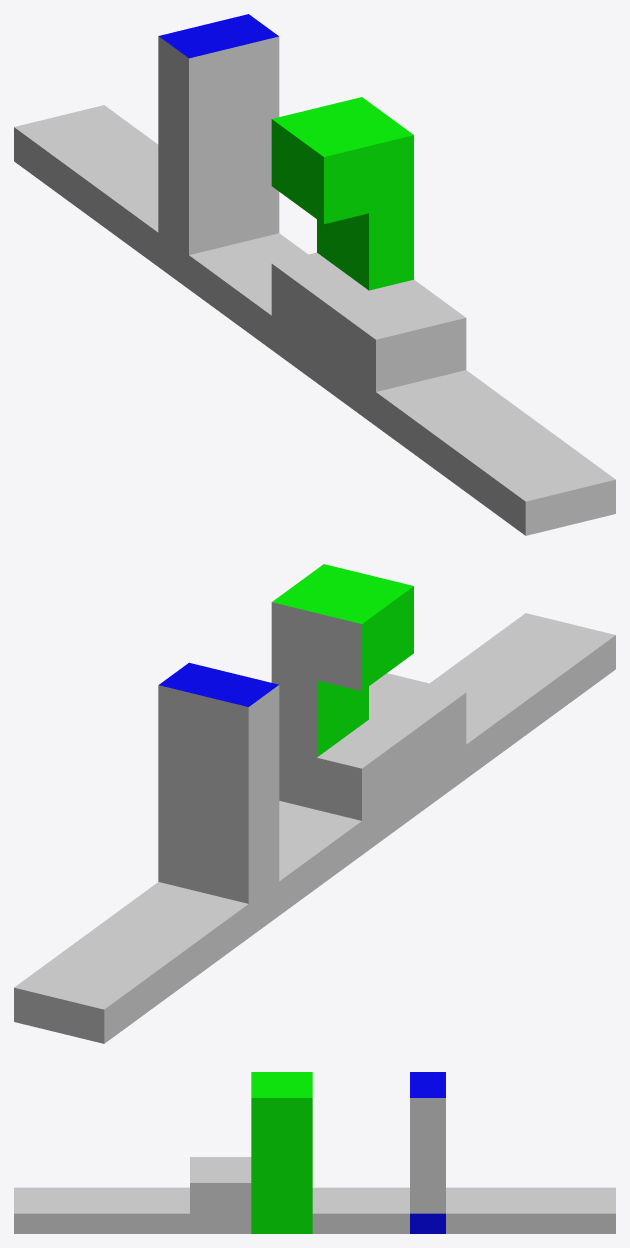
File: Level_02.fbx
3 renders of one model, top to bottom at view 1: azimuth 30°, elevation 25°; view 2: azimuth 150°, elevation 25°; view 3: azimuth 270°, elevation 25°, orthographic. The views are drawn at different scales.
Visible parts, largest first — view 1: lvl02, Green001, Blue001; view 2: lvl02, Green001, Blue001; view 3: lvl02, Green001, Blue001.
Part boxes in pixels (x1,y1,x2,y2): lvl02: (14, 36, 615, 535); Green001: (271, 97, 413, 290); Blue001: (159, 14, 278, 58); lvl02: (14, 602, 615, 1043); Green001: (272, 564, 413, 757); Blue001: (159, 662, 278, 706); lvl02: (14, 1098, 615, 1233); Green001: (251, 1072, 312, 1233); Blue001: (410, 1072, 445, 1233).
Bounding box in the file's own units: 8.54 × 20.89 × 83.86.
